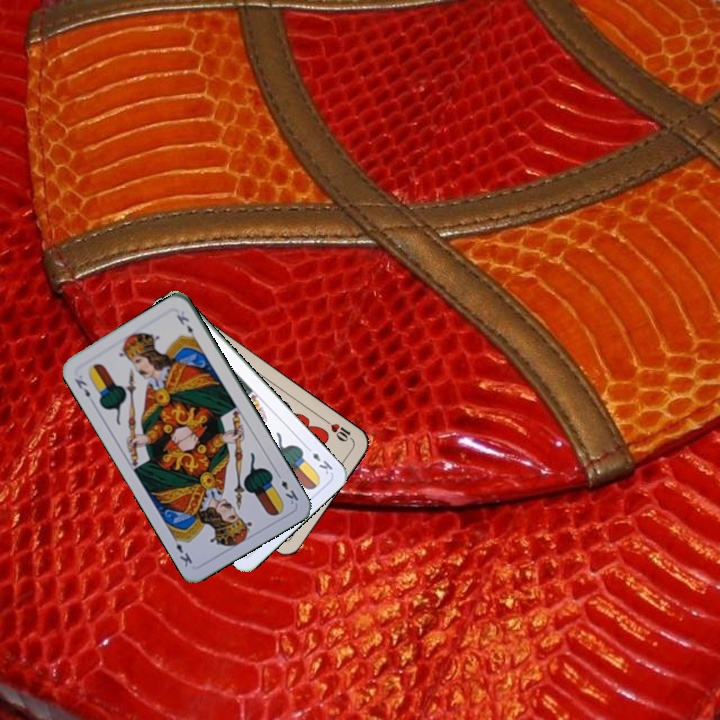EK: (302, 442, 335, 477), (272, 469, 301, 507), (70, 374, 93, 400)
H10: (320, 415, 355, 444)
